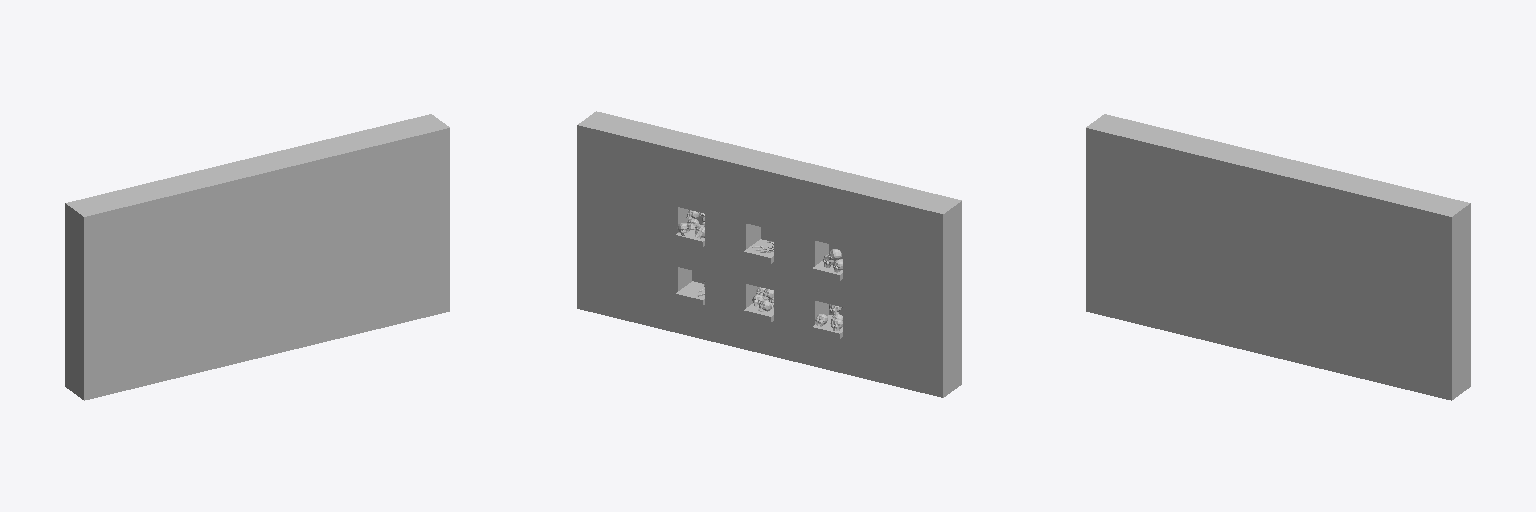
The model's file is CatacombV3.obj.
The picture shows the model from 3 angles: view 1: azimuth 30°, elevation 25°; view 2: azimuth 150°, elevation 25°; view 3: azimuth 330°, elevation 25°; orthographic projection.
Visible parts, largest first — view 1: CatacombV3; view 2: CatacombV3; view 3: CatacombV3.
Part boxes in pixels (x1,y1,x2,y2): CatacombV3: (65,114,449,400); CatacombV3: (577,111,961,397); CatacombV3: (1086,114,1470,400).
Size of the model in its own units: 53.56 by 25.68 by 5.72.